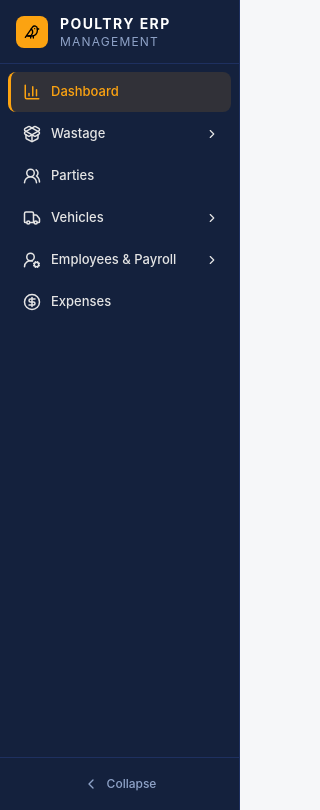
Scenario: Sidebar › shows wastage nested navigation to wastage staff
Expected: the text "Wastage" is shown, left=51, top=125, right=105, bottom=141
Step 1. Click the button "Wastage" → (120, 134), box left=8, top=114, right=231, bottom=154
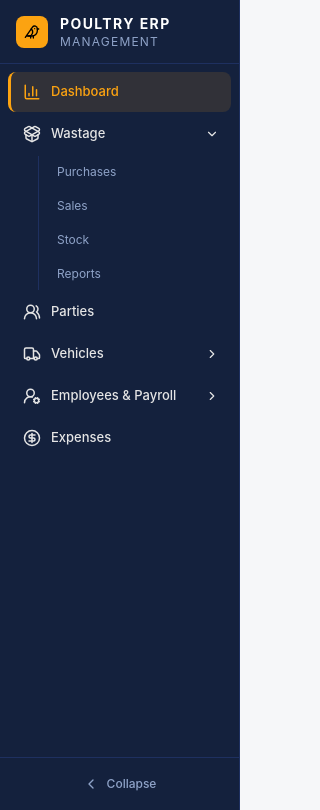
Expected: the link "Purchases" is shown, left=57, top=164, right=116, bottom=179
Expected: the link "Sales" is shown, left=57, top=198, right=88, bottom=213
Expected: the link "Stock" is shown, left=57, top=232, right=89, bottom=247
